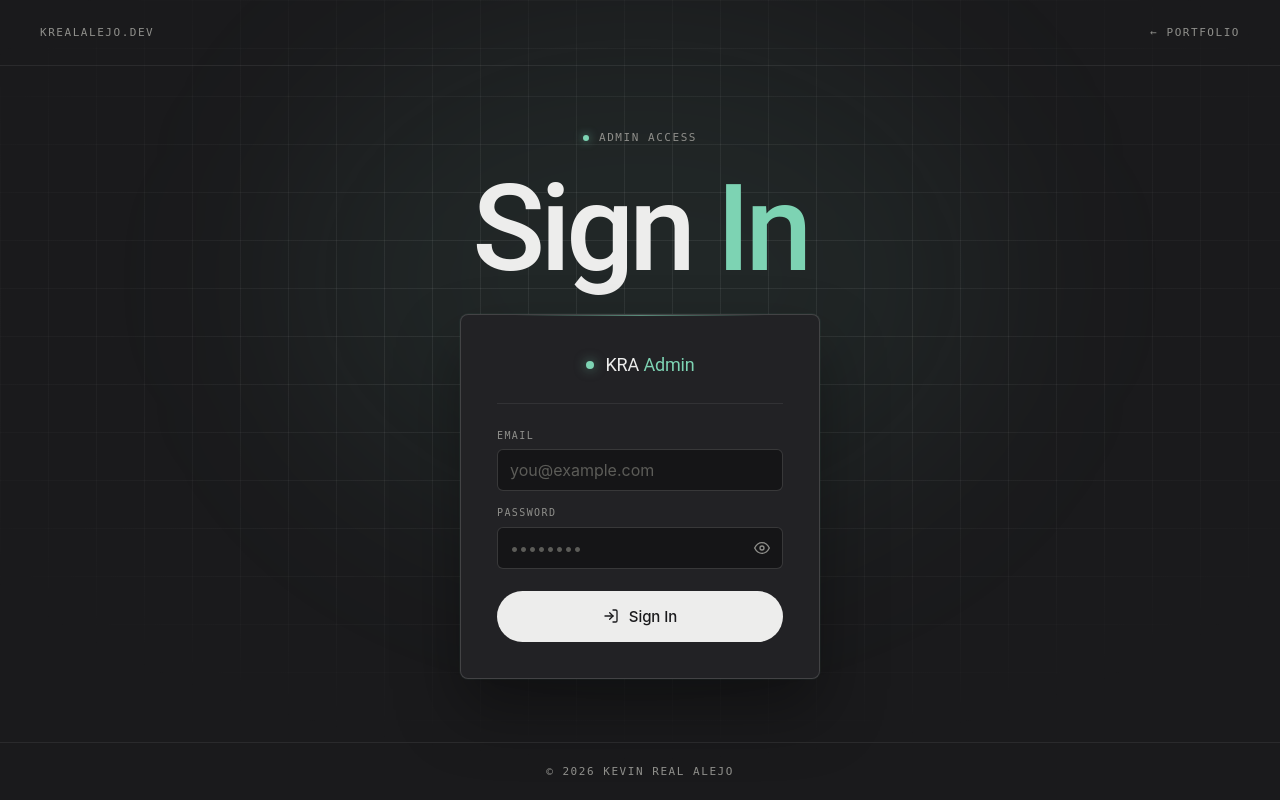
Test: pages/admin/login.vue › shows 503 error message for service unavailable
Type "a@b.com" into the field labelled "Email" at [640, 470], box [497,449,783,491]
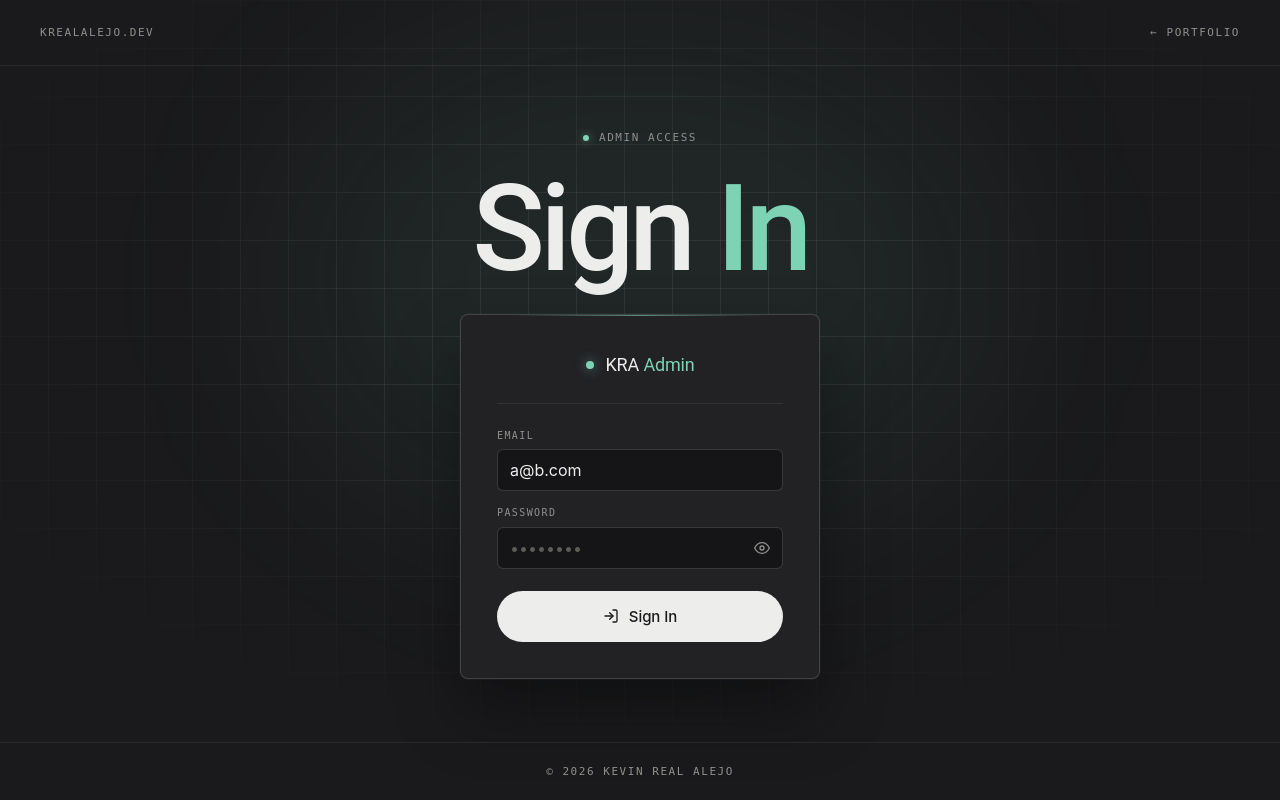
Type "pass" into the password field labelled "Password" at [640, 548], box [497,527,783,569]
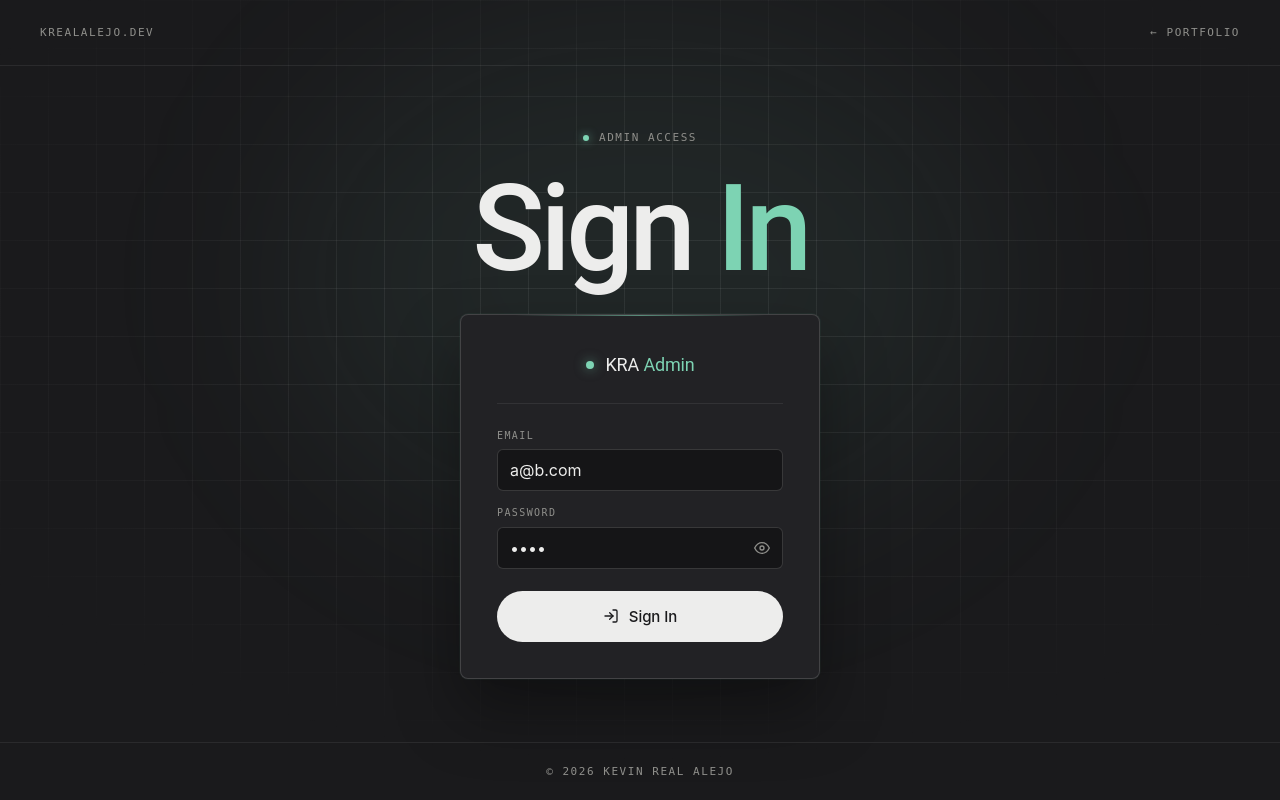
Submit the form, box [460,314,820,679]
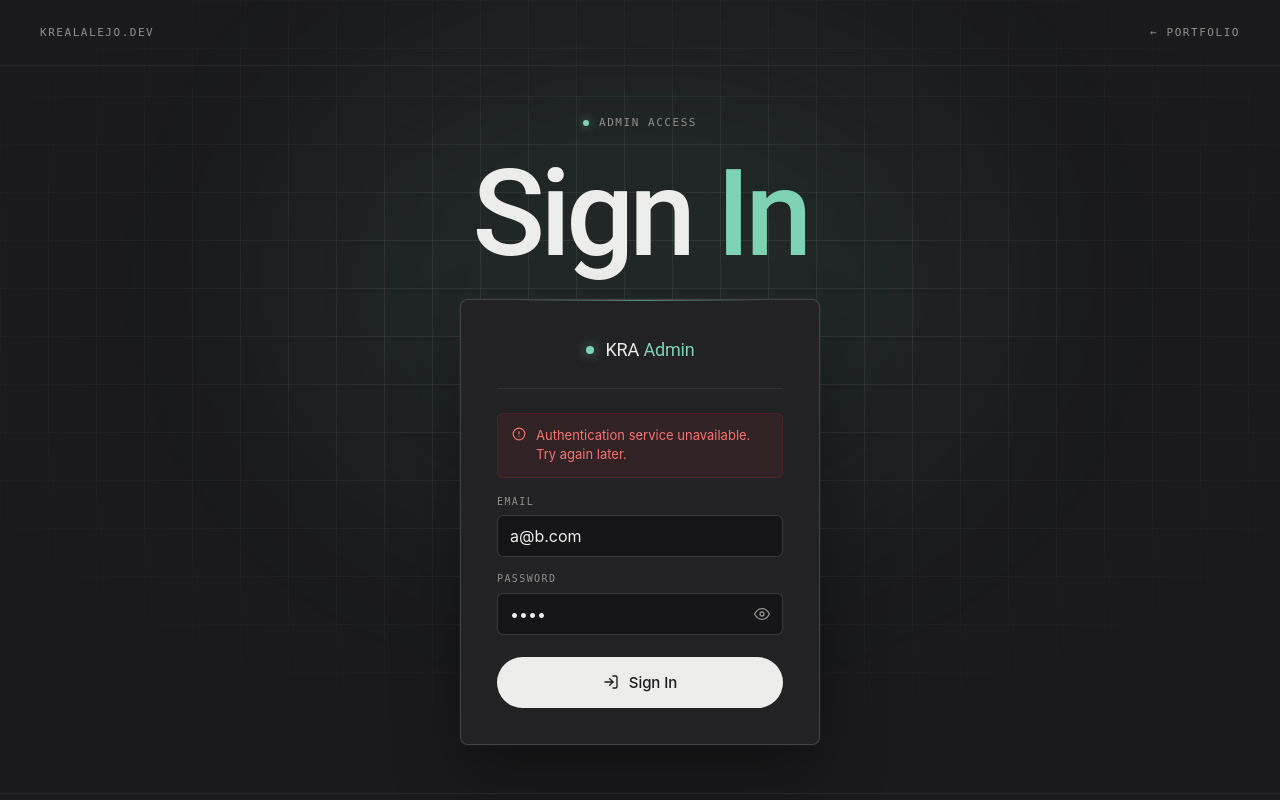
Result: the message "Authentication service unavailable. Try again later." is shown at [497,413,783,478]
